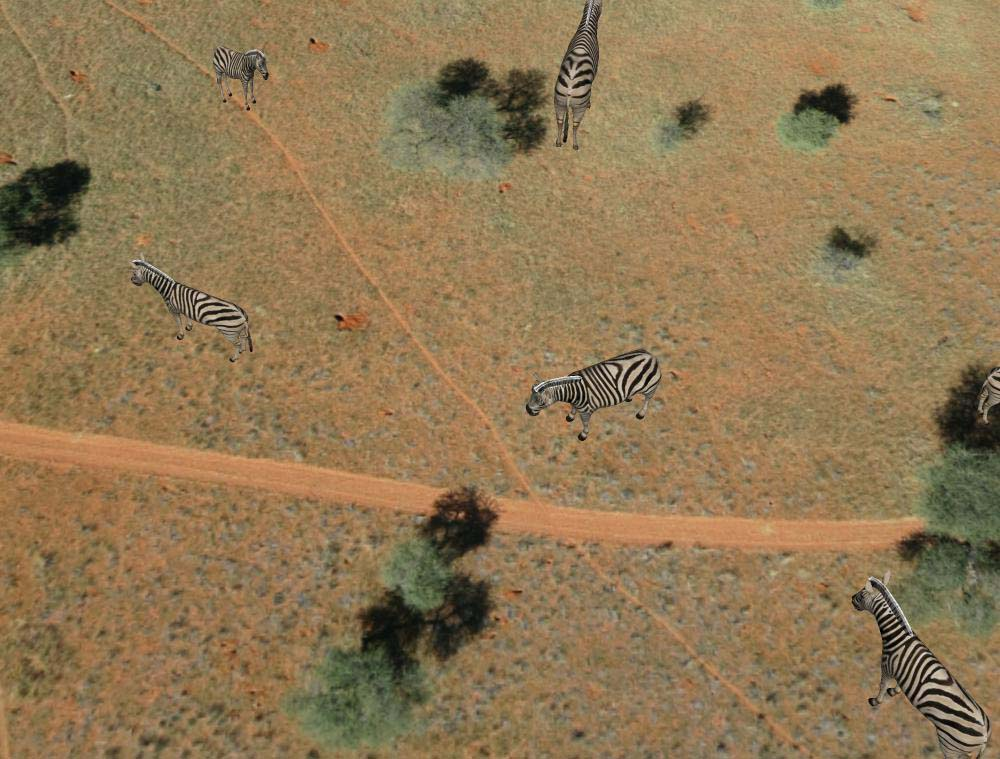zebra: (848, 575, 991, 759), (126, 251, 253, 358), (526, 350, 663, 445), (548, 2, 606, 156), (207, 39, 272, 116)
